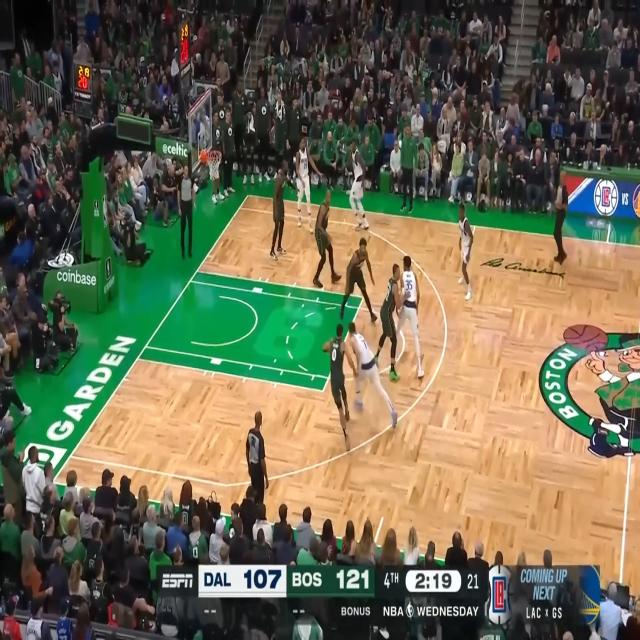Ball: (352, 346, 356, 354)
Clock: (179, 20, 191, 69), (73, 62, 92, 92)
Hoop: (207, 150, 222, 181)
Overlay: (156, 564, 489, 626), (488, 564, 601, 628)
Player: (347, 321, 398, 430), (322, 324, 359, 454), (372, 262, 410, 383), (395, 255, 426, 381), (338, 236, 378, 324), (312, 186, 344, 291), (269, 156, 300, 262), (295, 134, 325, 236), (348, 138, 369, 231), (457, 204, 474, 300)
Ref: (246, 409, 269, 535), (177, 162, 198, 263), (552, 168, 570, 268)
Scoreboard: (199, 565, 489, 597)
